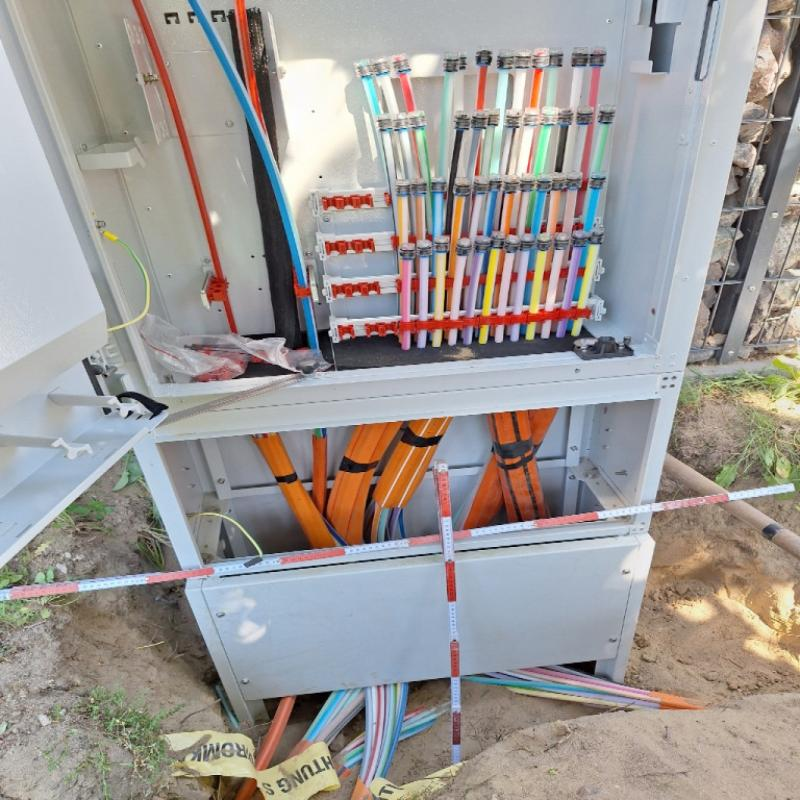NT-Gehause: (1, 0, 767, 702)
Orang-Speednetrohrchen: (256, 421, 454, 551), (469, 409, 561, 530), (479, 667, 708, 710)
